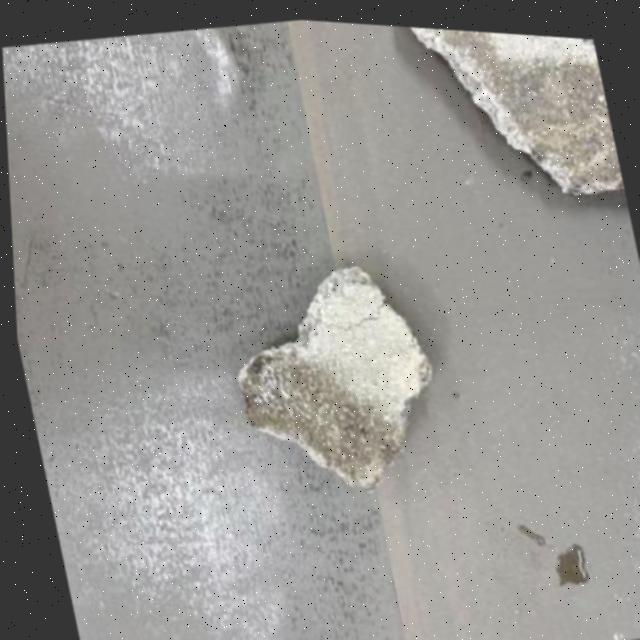Road Debris: (227, 325, 397, 504), (489, 42, 624, 200), (414, 22, 496, 82)
